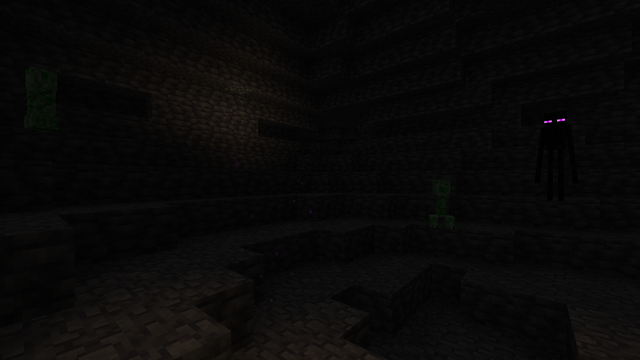creepers: (24, 61, 57, 132), (429, 177, 452, 228)
endermens: (543, 107, 568, 199)
